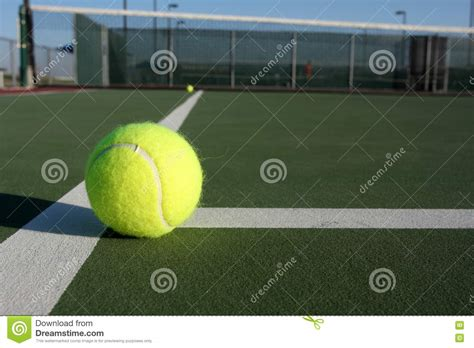tennis_ball: (84, 122, 204, 238)
